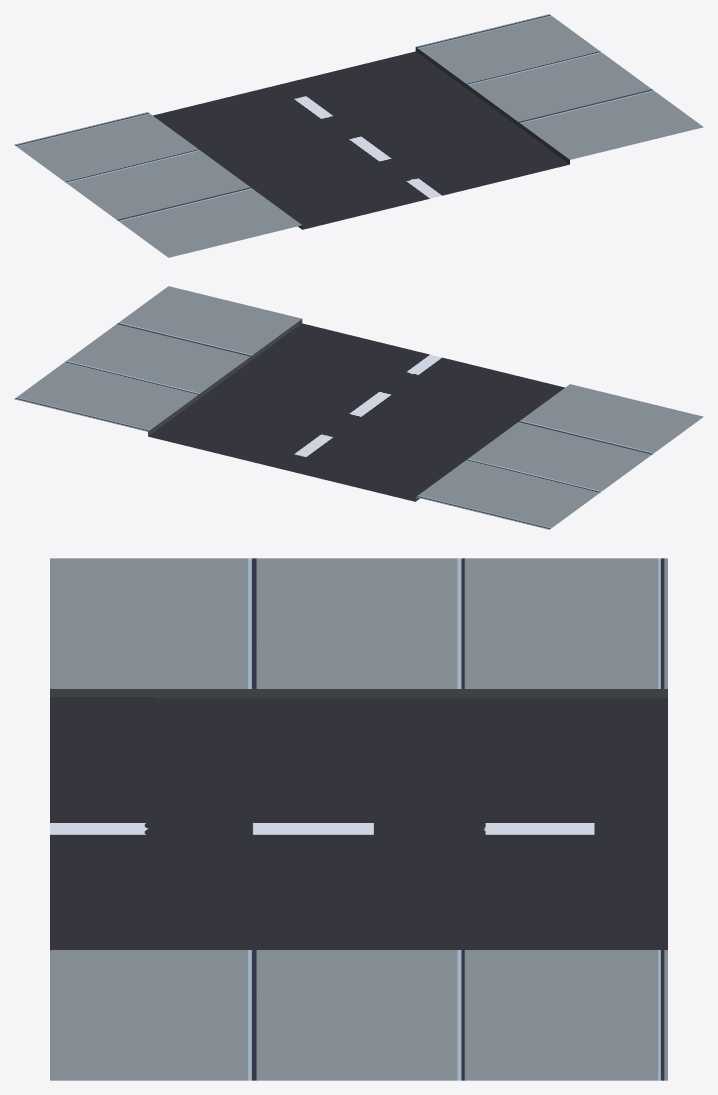
Rendered from Road_Straight.fbx.
3 renders of one model, top to bottom at view 1: azimuth 30°, elevation 25°; view 2: azimuth 150°, elevation 25°; view 3: azimuth 270°, elevation 25°, orthographic. The views are drawn at different scales.
Visible parts, largest first — view 1: Road_Straight; view 2: Road_Straight; view 3: Road_Straight.
Part boxes in pixels (box(x1,y1,x2,y2)): Road_Straight: box(14, 14, 703, 257); Road_Straight: box(14, 286, 703, 529); Road_Straight: box(50, 558, 667, 1080).
Bounding box in the file's own units: 12 × 0.1 × 6.
